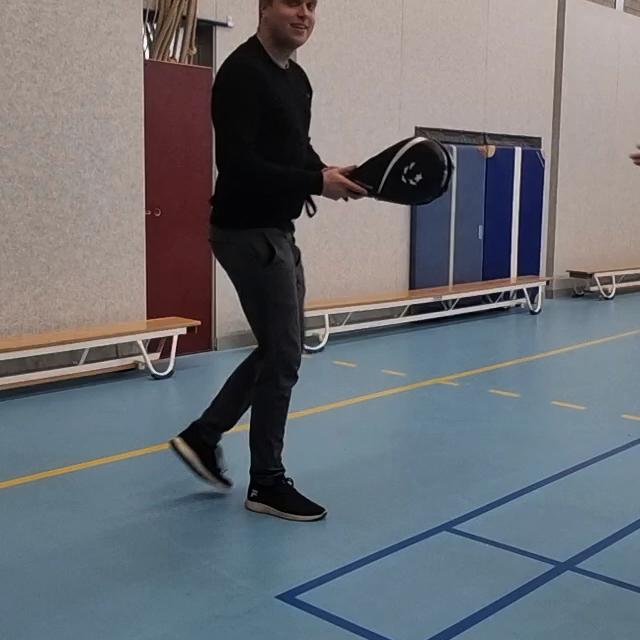paddle: (331, 131, 460, 208)
